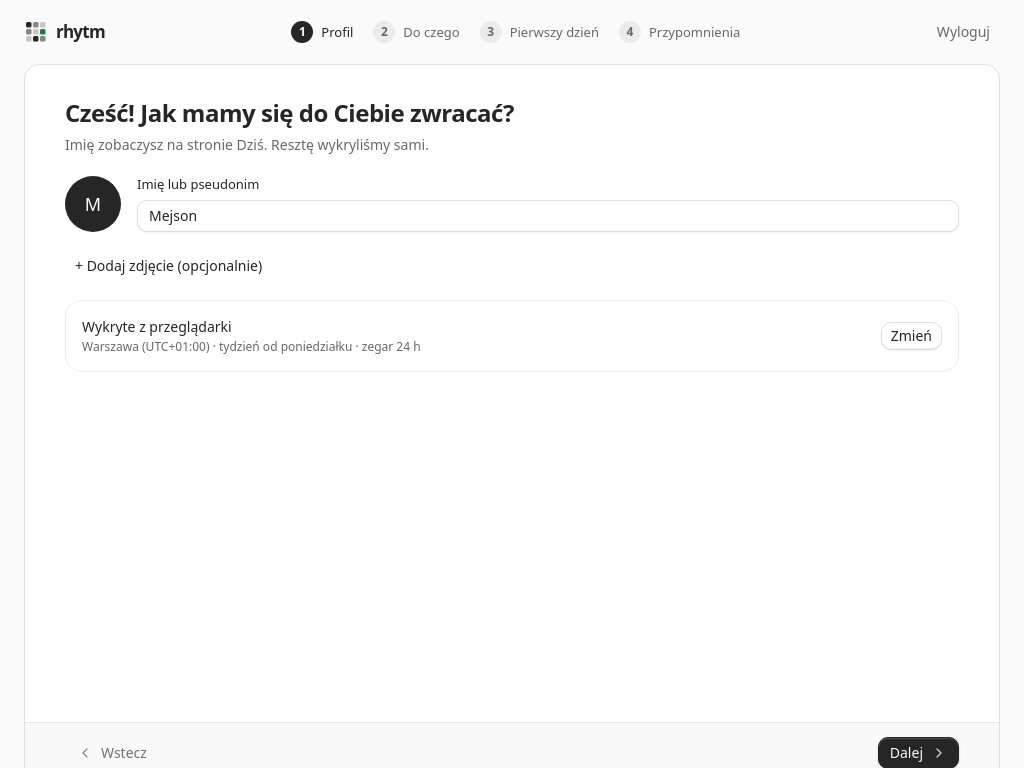
Scenario: OnboardingWizard › błąd zapisu zostaje na ekranie
Click the button "Dalej": (918,753) [878,737,959,767]
(page scrolled)
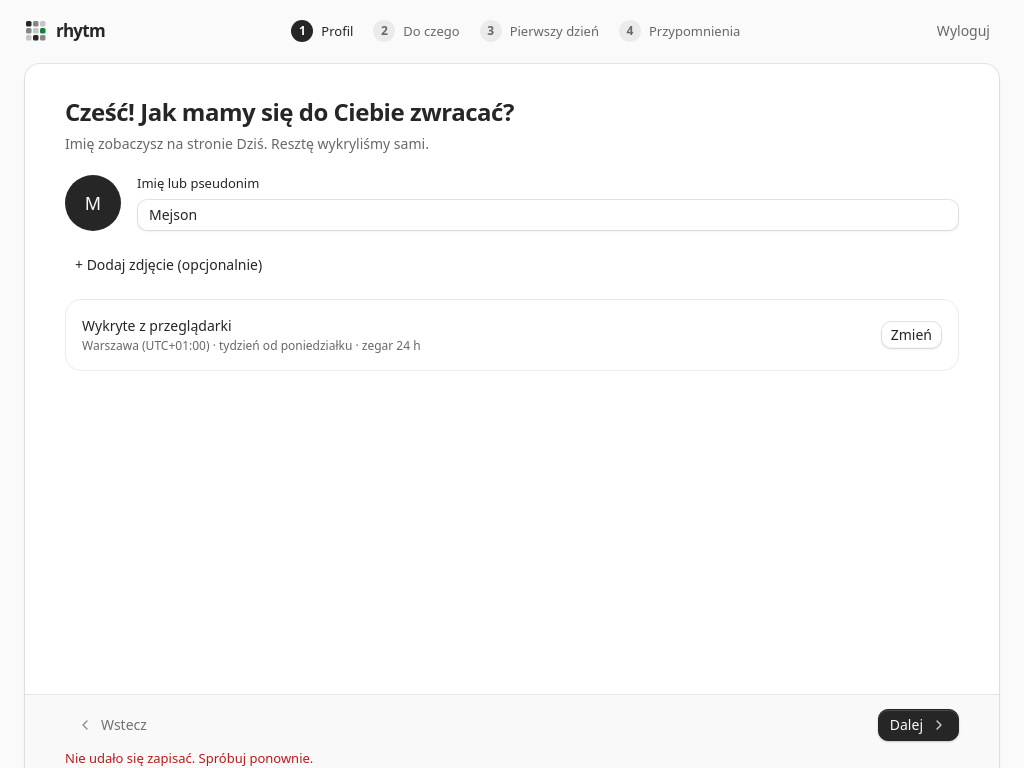
Expected: the message shows "Nie udało się zapisać", [65,749,313,767]
